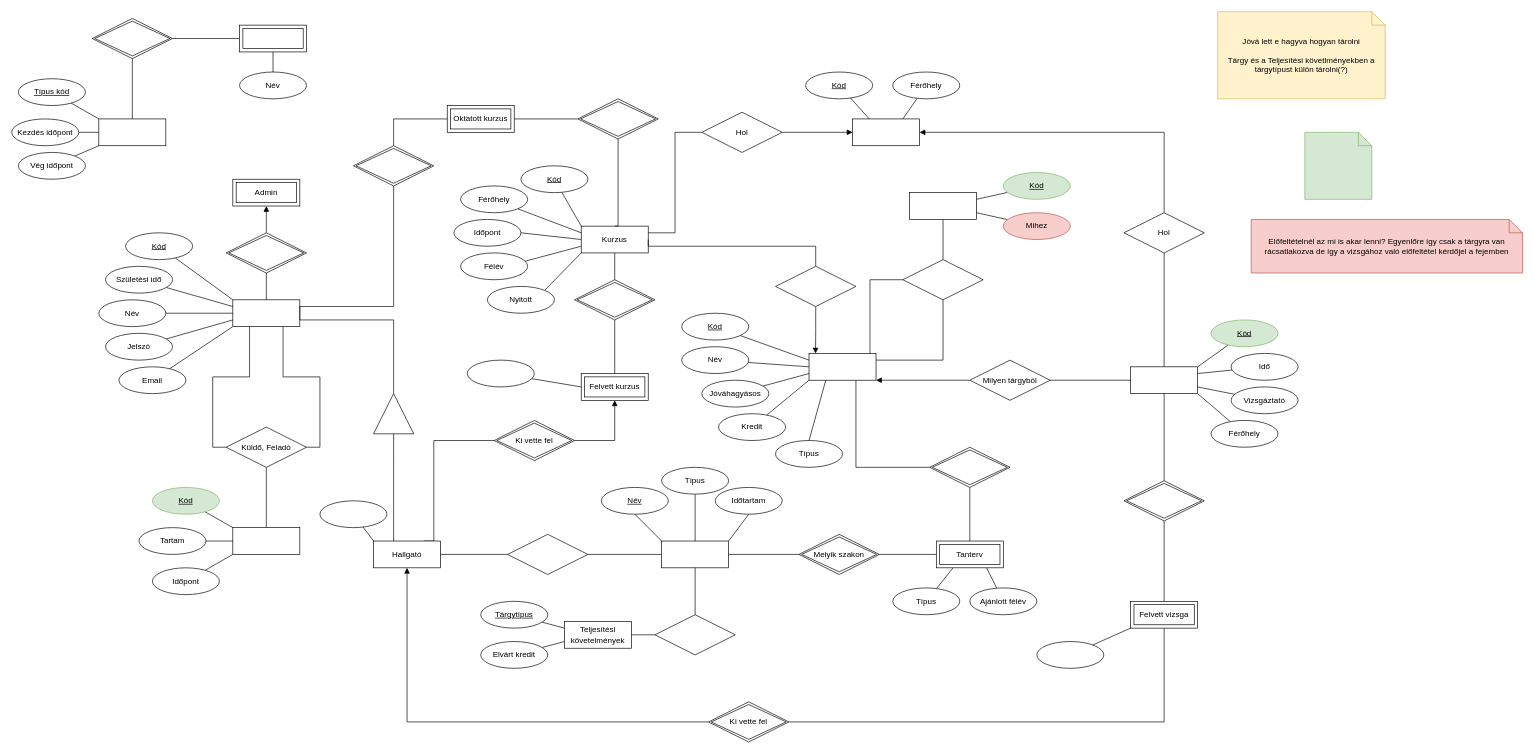
This 1534x754 diagram has some shape labels left out. The shapes that lost their labels are listed below. From the top down, each one's box as (x1, y1, x2, y2) in pixels, then its label:
(239, 24, 307, 52): Időszak típus
(98, 118, 166, 146): Időszak
(577, 98, 658, 139): Melyik kurzus
(852, 118, 920, 146): Terem
(353, 145, 434, 186): Oktató
(1304, 132, 1372, 199): Eredetileg nem volt kódjuk, de így picit egyszerűbb lenne
(909, 192, 977, 219): Előfeltétel
(225, 232, 307, 273): Admin jog
(574, 279, 655, 320): Melyik kurzust
(775, 266, 856, 307): Kurzusok
(232, 299, 300, 327): Felhasználó
(467, 359, 534, 387): Teljesítve
(808, 353, 876, 380): Tárgy
(1130, 366, 1198, 394): Vizsga
(929, 447, 1010, 487): Melyik tárgy
(319, 500, 387, 528): Kezdés éve
(1123, 480, 1204, 521): Melyik vizsga
(232, 527, 300, 554): Üzenet
(507, 534, 588, 575): Milyen szakon
(661, 540, 729, 568): Szak
(654, 614, 735, 655): Melyik szaknak
(1036, 641, 1104, 668): Érdemjegy
